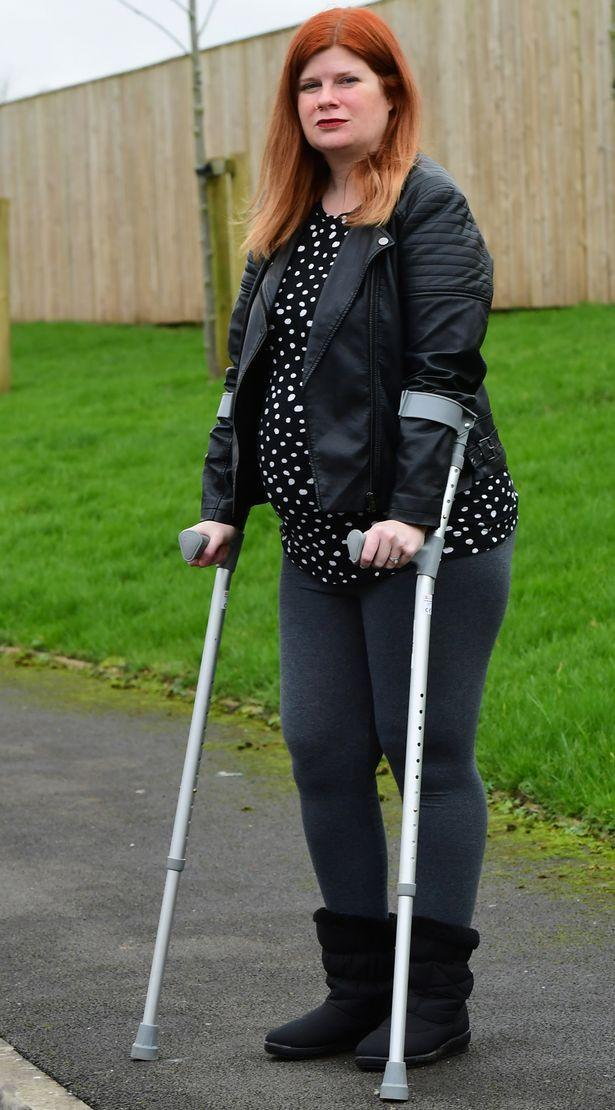crutches: (122, 0, 518, 1105)
